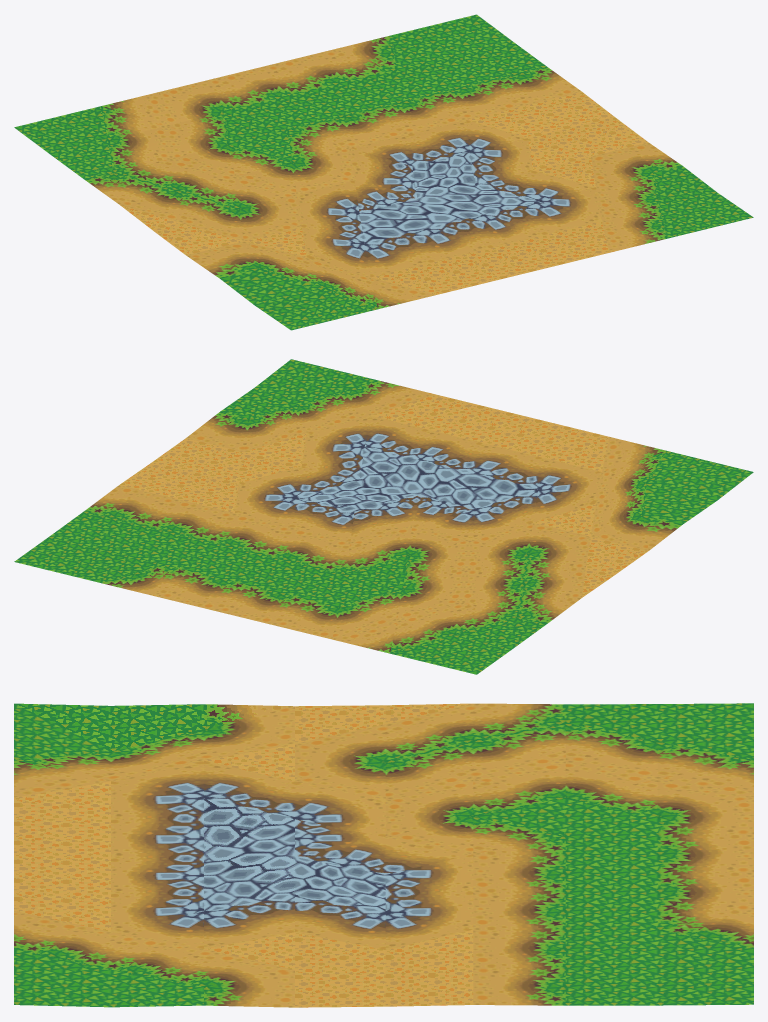
File: c_grd_f_s_1.001.glb
3 views of the same model, one above another, from view 1: azimuth 30°, elevation 25°; view 2: azimuth 150°, elevation 25°; view 3: azimuth 270°, elevation 25° (orthographic). The views are drawn at different scales.
Visible parts, largest first — view 1: c_grd_f_s_1.001; view 2: c_grd_f_s_1.001; view 3: c_grd_f_s_1.001.
Part boxes in pixels (x1,y1,x2,y2): c_grd_f_s_1.001: (14, 14, 753, 330); c_grd_f_s_1.001: (14, 359, 753, 674); c_grd_f_s_1.001: (14, 703, 753, 1007).
Bounding box in the file's own units: 32 × 0.1406 × 33.2.
Materials: 5 (5 with a texture image).
